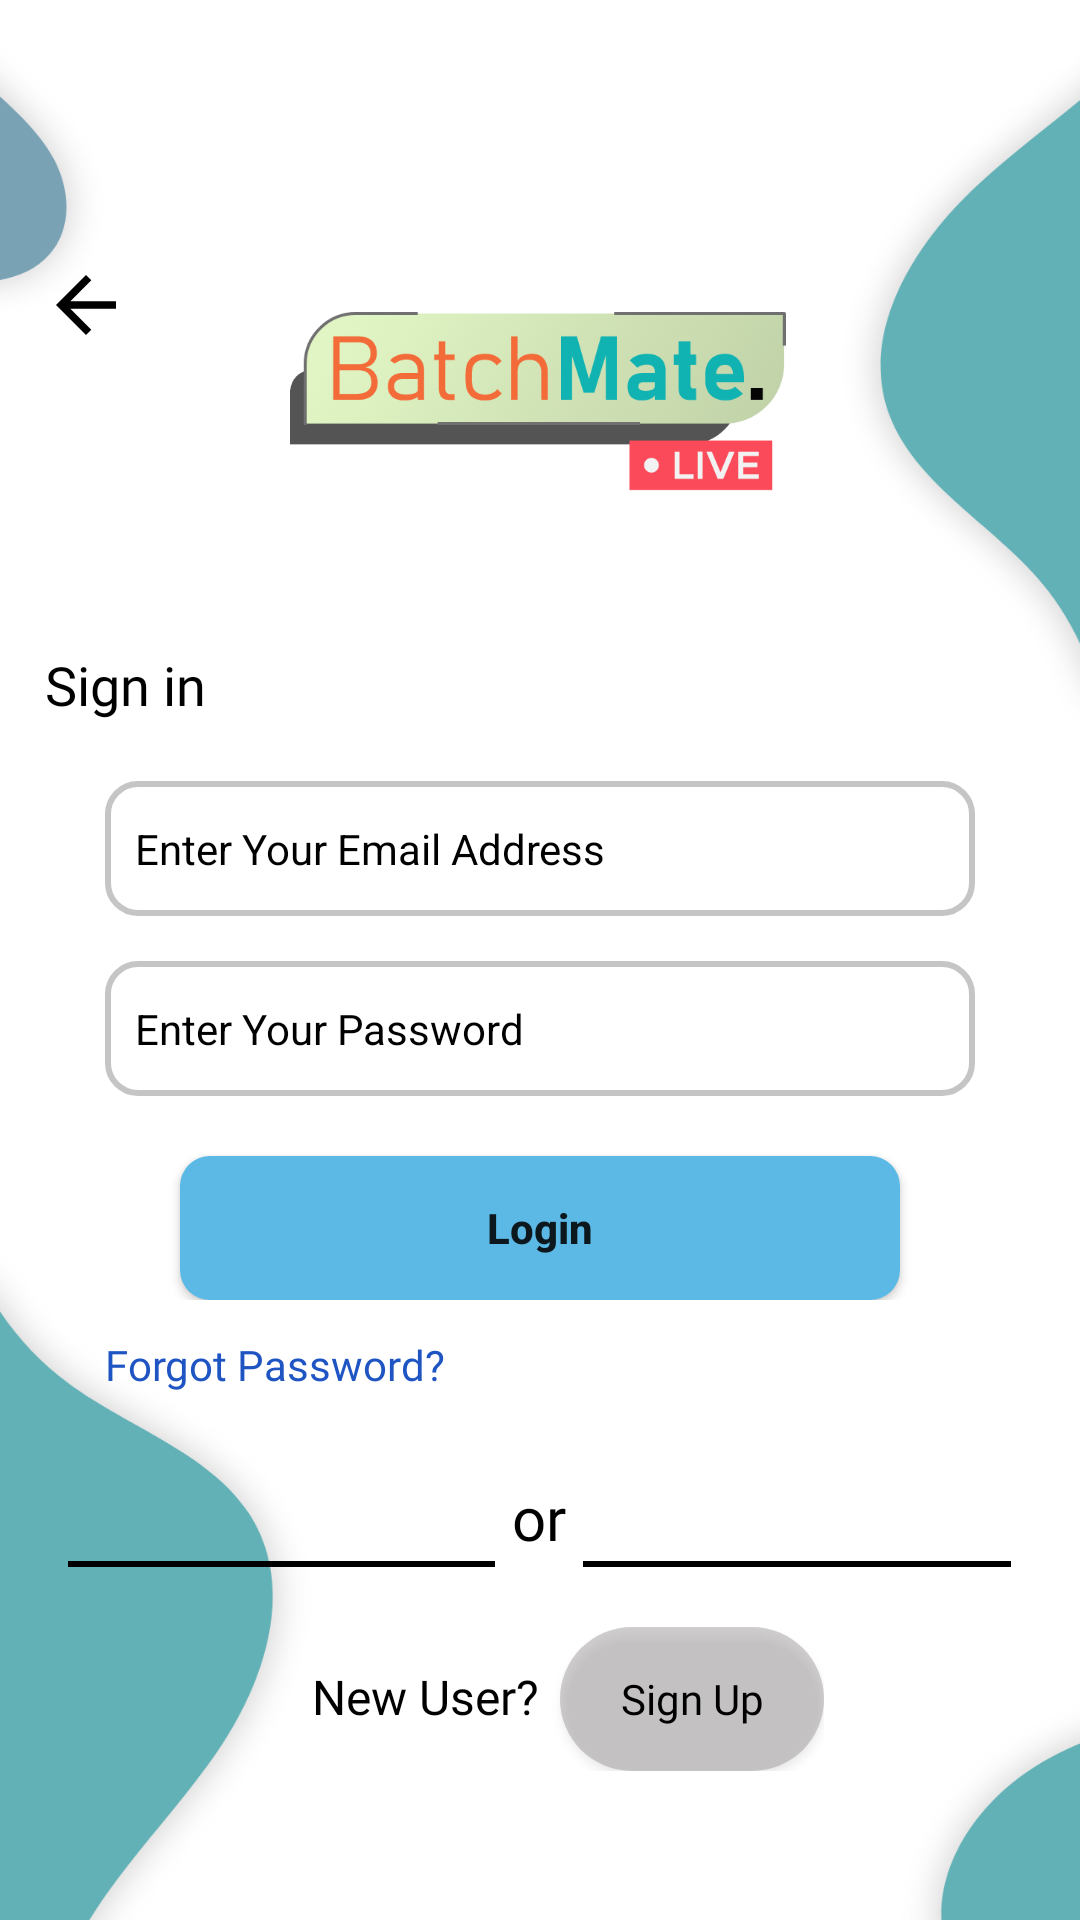

Named icons in this screenshot (1080px×1920px) and their bounding boxes, (x1, y1, x2, y2):
arrow back: (56, 275, 116, 335)
